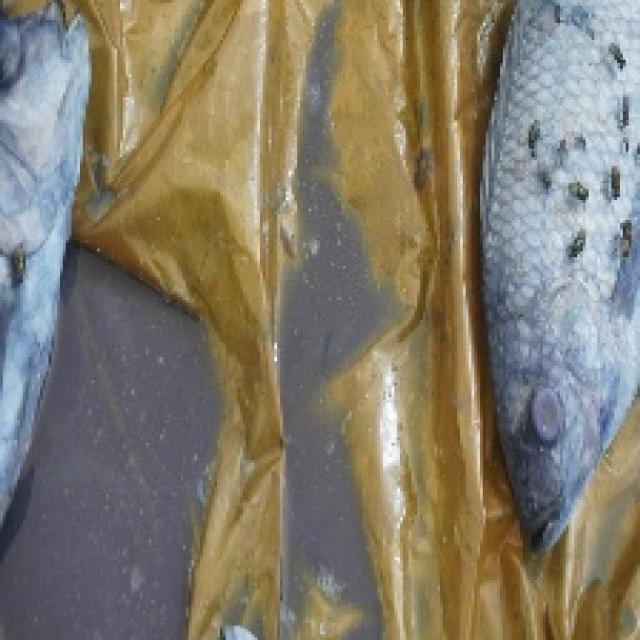Non-Fresh: (494, 6, 640, 360), (526, 374, 575, 463)
